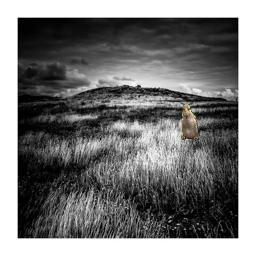Sparrow: (181, 104, 198, 144)
